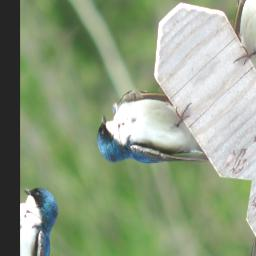Swallow: (84, 55, 222, 226)
